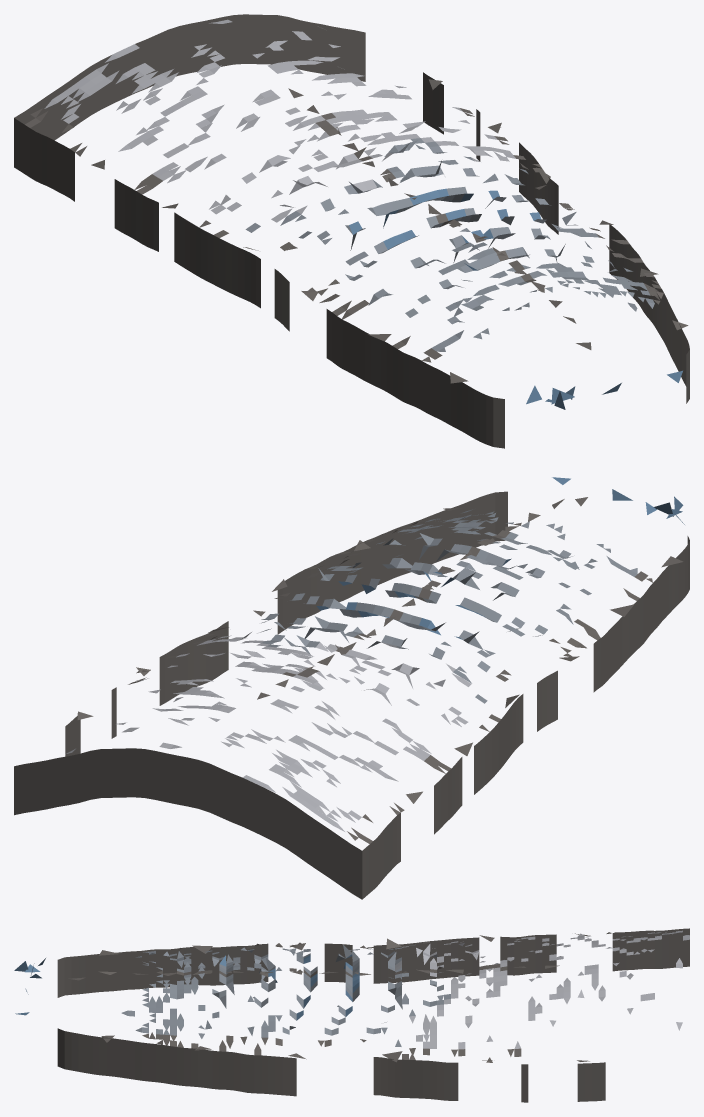
Rendered from glacier-lod1.glb.
3 renders of one model, top to bottom at view 1: azimuth 30°, elevation 25°; view 2: azimuth 150°, elevation 25°; view 3: azimuth 270°, elevation 25°, orthographic. The views are drawn at different scales.
Visible parts, largest first — view 1: glacier.001; view 2: glacier.001; view 3: glacier.001.
Boxes of the visible parts, left/top/right/bottom form: glacier.001: left=14, top=14, right=689, bottom=448; glacier.001: left=14, top=477, right=689, bottom=899; glacier.001: left=14, top=928, right=689, bottom=1102.
Size of the model in its own units: 45.44 by 12.8 by 96.22.
